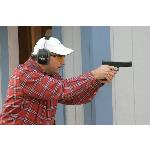Pistol: (100, 60, 132, 80)
